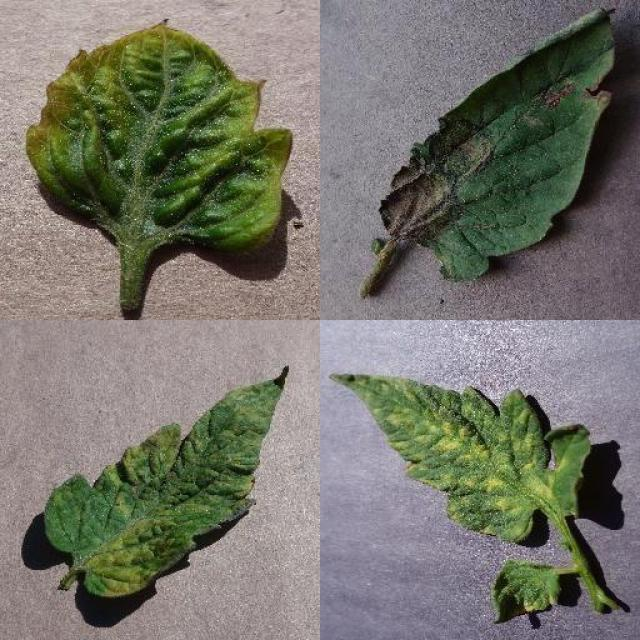Late Blight: (381, 6, 619, 284)
